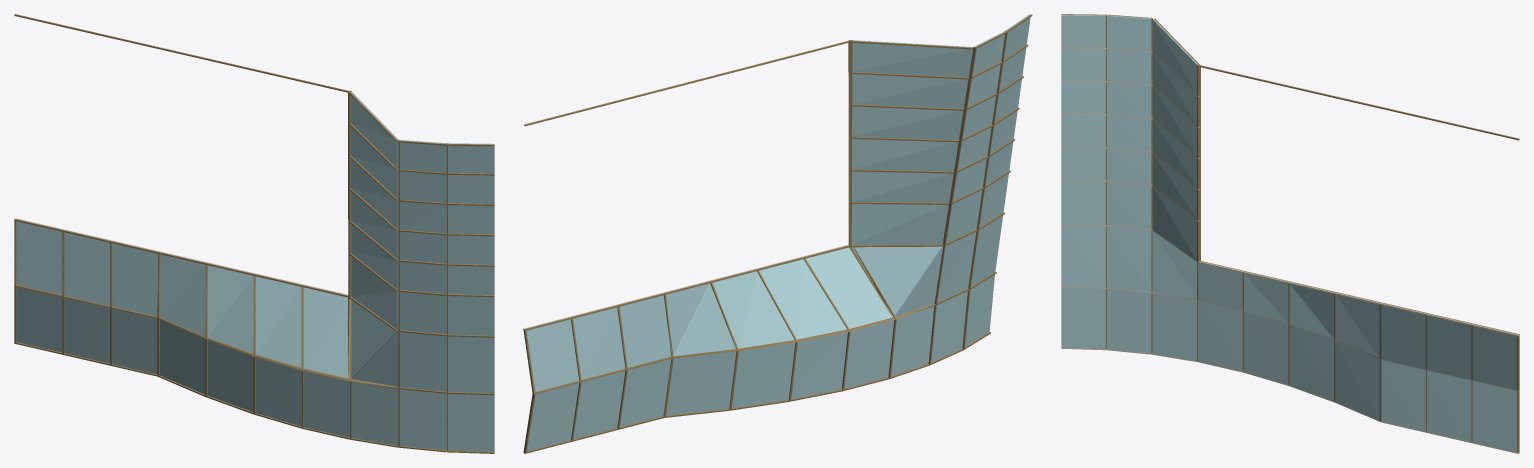
File: G7_Completion_R003_Body_1_08.glb
3 views of the same model, side by side, from view 1: azimuth 90°, elevation 25°; view 2: azimuth 150°, elevation 25°; view 3: azimuth 270°, elevation 25° (orthographic). The views are drawn at different scales.
Parts seen in each view (by area): view 1: Body_1_08_G7C3_glass_solid_skin, Body_1_08_G7C3_metal_solid_frame, Body_1_08_G7C3_shell_solid_skin; view 2: Body_1_08_G7C3_glass_solid_skin, Body_1_08_G7C3_metal_solid_frame, Body_1_08_G7C3_metal_solid_skin; view 3: Body_1_08_G7C3_glass_solid_skin, Body_1_08_G7C3_shell_solid_skin, Body_1_08_G7C3_metal_solid_skin, Body_1_08_G7C3_metal_solid_frame.
Part boxes in pixels (<box>): Body_1_08_G7C3_glass_solid_skin: <box>16,92,494,451</box>; Body_1_08_G7C3_metal_solid_frame: <box>14,14,494,453</box>; Body_1_08_G7C3_shell_solid_skin: <box>15,169,446,451</box>; Body_1_08_G7C3_glass_solid_skin: <box>526,14,1030,451</box>; Body_1_08_G7C3_metal_solid_frame: <box>524,14,1032,453</box>; Body_1_08_G7C3_metal_solid_skin: <box>523,30,1005,451</box>; Body_1_08_G7C3_glass_solid_skin: <box>1061,14,1516,452</box>; Body_1_08_G7C3_shell_solid_skin: <box>1061,47,1518,453</box>; Body_1_08_G7C3_metal_solid_skin: <box>1105,15,1518,452</box>; Body_1_08_G7C3_metal_solid_frame: <box>1061,14,1519,452</box>.
Size of the model in its own units: 39.07 by 45.5 by 60.19.
3 materials, 2 textured.
